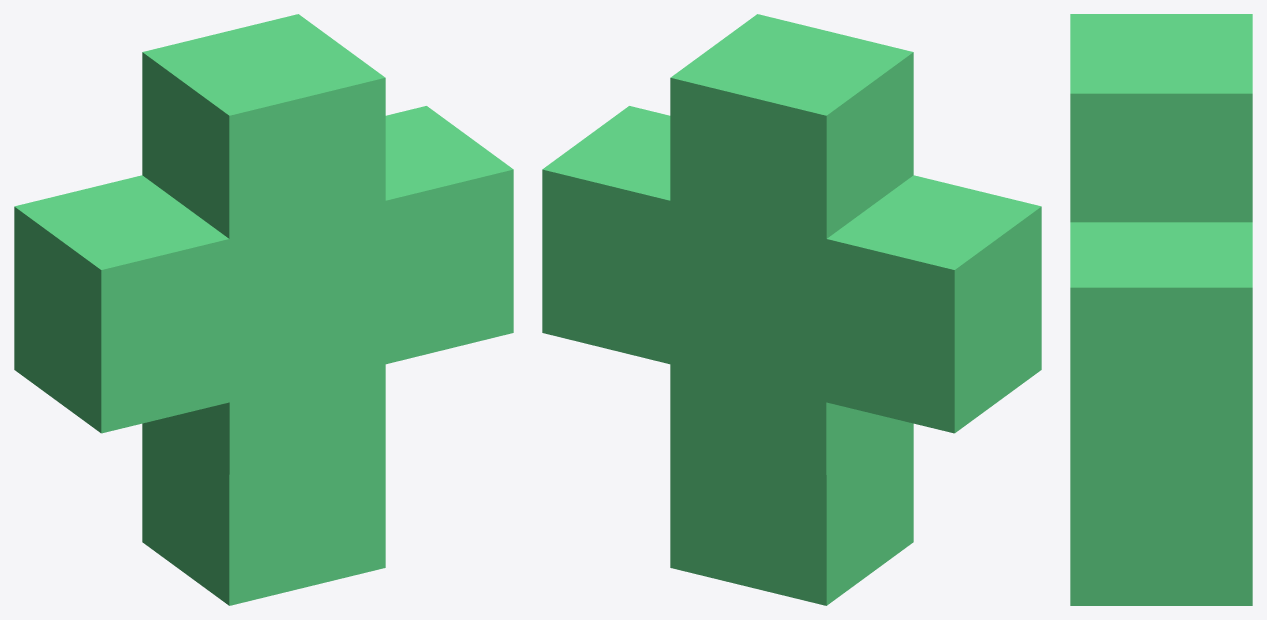
File: Cross.fbx
3 views of the same model, side by side, from view 1: azimuth 30°, elevation 25°; view 2: azimuth 150°, elevation 25°; view 3: azimuth 270°, elevation 25° (orthographic). The views are drawn at different scales.
Visible parts, largest first — view 1: Cross:Cross:pCube1; view 2: Cross:Cross:pCube1; view 3: Cross:Cross:pCube1.
Boxes of the visible parts, x1,y1,x2,y2 form: Cross:Cross:pCube1: (14,14,513,605); Cross:Cross:pCube1: (542,14,1041,605); Cross:Cross:pCube1: (1070,14,1252,605).
Size of the model in its own units: 1.76 by 2 by 0.6439.
